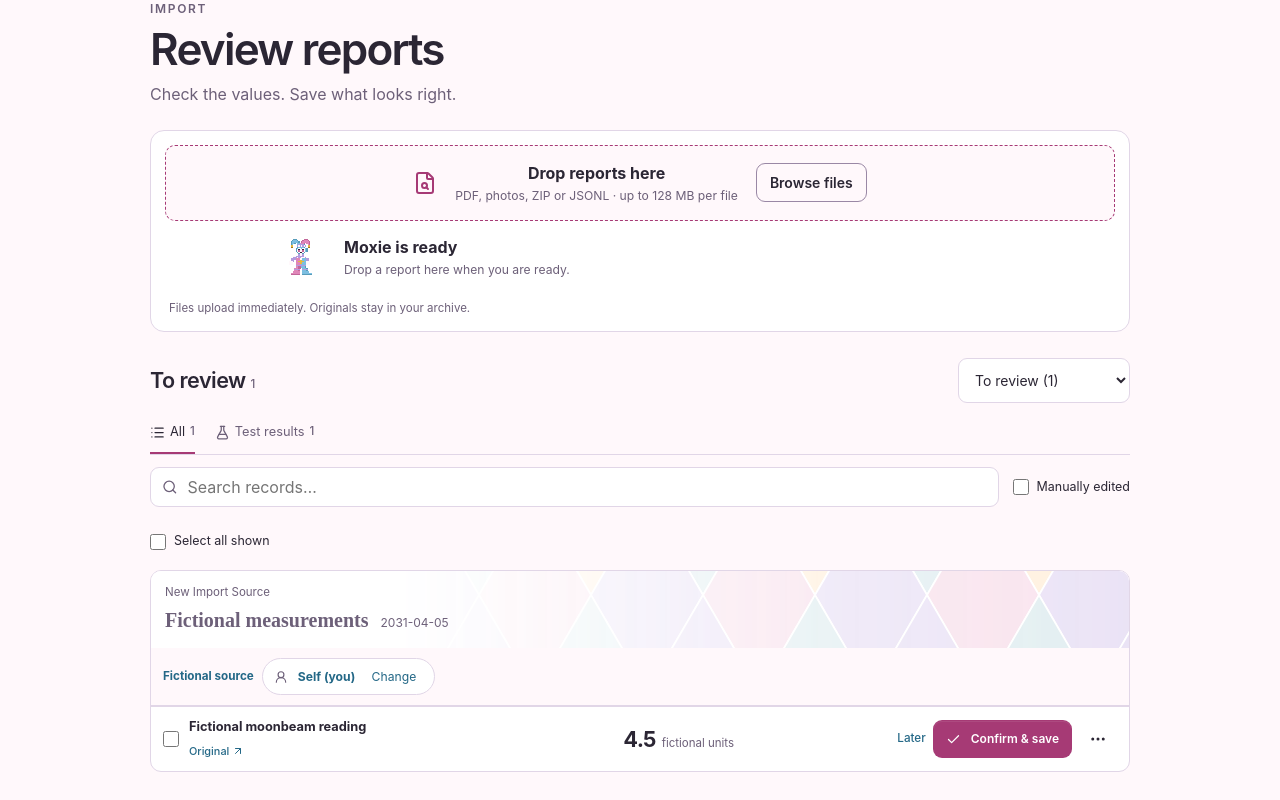
Scenario: retains the manual-edit title for a record with the inline editor
Click the button named "More actions for Fictional moonbeam reading".
click(1098, 739)  # box [1079,720,1117,758]
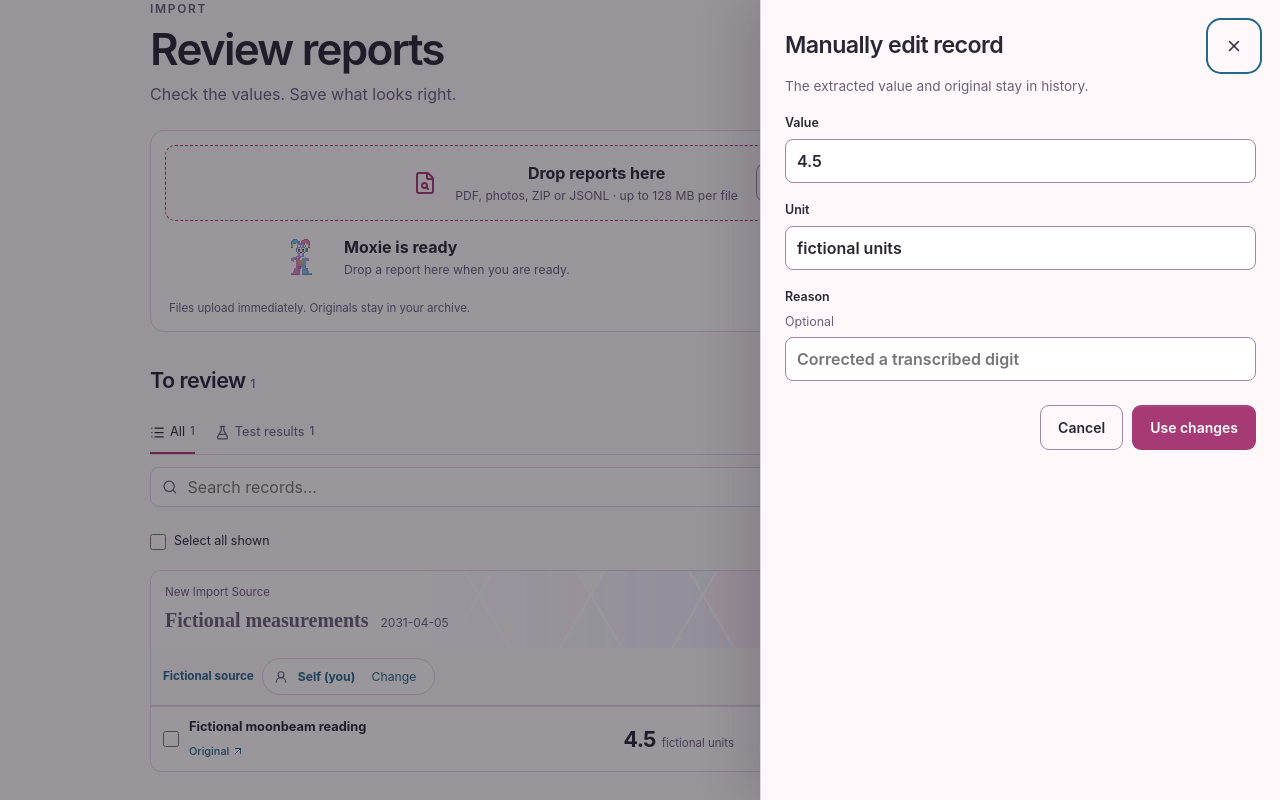
Expected: the field labelled "Value" is shown, [785,139,1256,183]
Expected: the field labelled "Unit" is shown, [785,226,1256,270]
